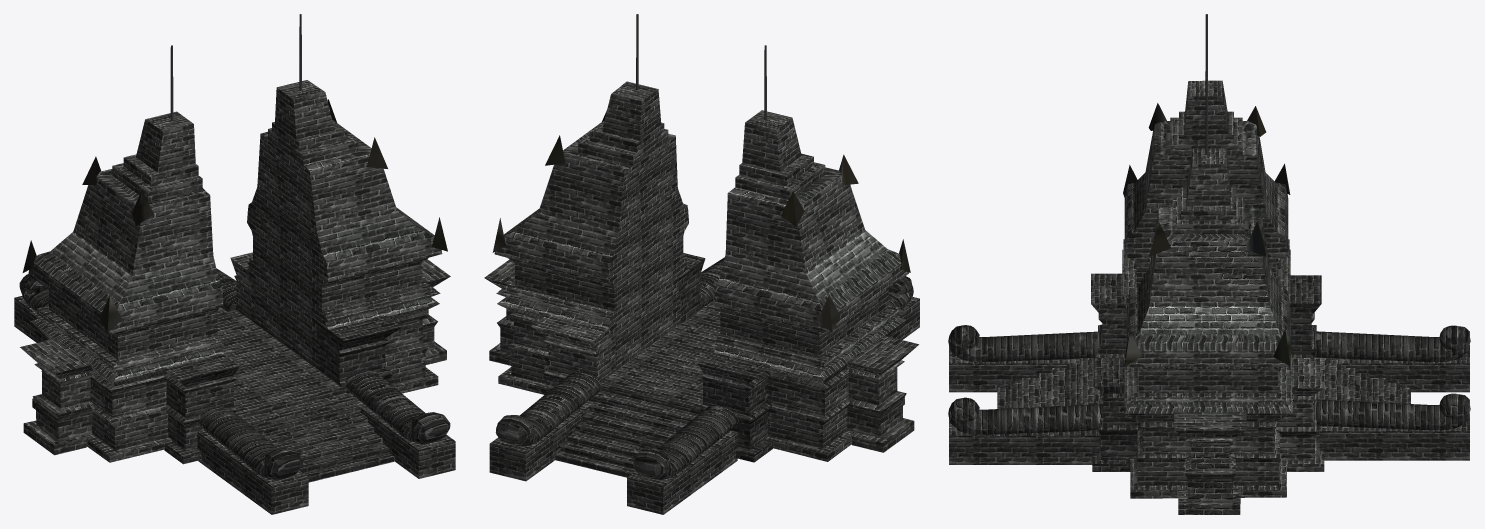
The model's file is gerbang.glb.
3 views of the same model, side by side, from view 1: azimuth 30°, elevation 25°; view 2: azimuth 150°, elevation 25°; view 3: azimuth 270°, elevation 25° (orthographic).
Parts seen in each view (by area): view 1: Object_6, Object_12, Object_14, Object_13, Object_9, Object_11, Object_8, Object_5, Object_16, Object_10, Object_3, Object_15; view 2: Object_6, Object_12, Object_14, Object_13, Object_9, Object_8, Object_10, Object_5, Object_16, Object_3; view 3: Object_6, Object_14, Object_13, Object_12, Object_8, Object_9, Object_10, Object_5, Object_11, Object_16, Object_4.
Part boxes in pixels (bbox=[...]): Object_6: bbox=[28, 80, 442, 462]; Object_12: bbox=[217, 310, 394, 482]; Object_14: bbox=[19, 268, 450, 479]; Object_13: bbox=[14, 295, 455, 514]; Object_9: bbox=[20, 259, 450, 455]; Object_11: bbox=[163, 354, 239, 464]; Object_8: bbox=[317, 315, 401, 394]; Object_5: bbox=[51, 231, 132, 302]; Object_16: bbox=[22, 99, 447, 333]; Object_10: bbox=[230, 252, 255, 320]; Object_3: bbox=[113, 338, 221, 368]; Object_15: bbox=[170, 14, 301, 120]; Object_6: bbox=[494, 81, 908, 461]; Object_12: bbox=[555, 305, 720, 477]; Object_14: bbox=[495, 257, 913, 479]; Object_13: bbox=[489, 296, 919, 514]; Object_9: bbox=[484, 259, 918, 452]; Object_8: bbox=[678, 253, 772, 462]; Object_10: bbox=[531, 315, 615, 392]; Object_5: bbox=[806, 230, 887, 299]; Object_16: bbox=[492, 110, 910, 332]; Object_3: bbox=[503, 288, 610, 318]; Object_6: bbox=[1122, 80, 1292, 498]; Object_14: bbox=[948, 325, 1470, 434]; Object_13: bbox=[949, 345, 1469, 464]; Object_12: bbox=[997, 353, 1410, 437]; Object_8: bbox=[1092, 275, 1321, 471]; Object_9: bbox=[1174, 412, 1246, 514]; Object_10: bbox=[1275, 358, 1324, 471]; Object_5: bbox=[1139, 306, 1280, 334]; Object_11: bbox=[1091, 273, 1126, 354]; Object_16: bbox=[1123, 103, 1291, 366]; Object_4: bbox=[1131, 397, 1285, 402].
Size of the model in its own units: 3.25 by 2.88 by 3.65.
Materials: 13 (12 with a texture image).
